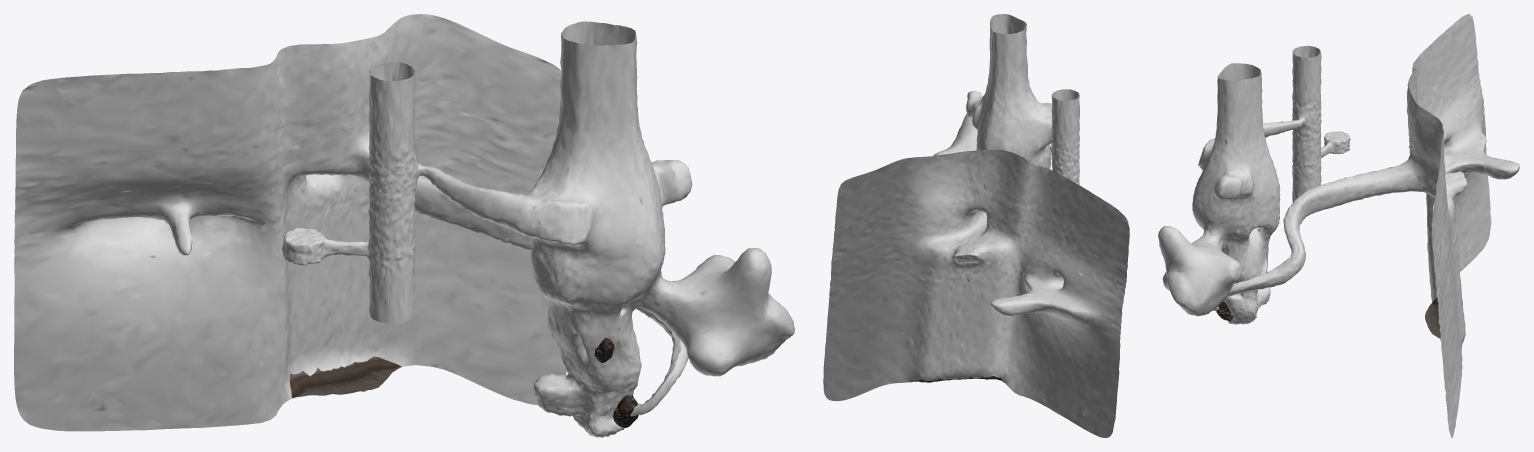
Rendered from CaveTest_11_26 3.fbx.
3 views of the same model, side by side, from view 1: azimuth 30°, elevation 25°; view 2: azimuth 150°, elevation 25°; view 3: azimuth 270°, elevation 25° (orthographic). The views are drawn at different scales.
Visible parts, largest first — view 1: CaveBase; view 2: CaveBase; view 3: CaveBase.
Boxes of the visible parts, x1,y1,x2,y2 form: CaveBase: [14, 14, 794, 437]; CaveBase: [823, 14, 1129, 437]; CaveBase: [1158, 14, 1519, 437].
Bounding box in the file's own units: 62064 × 57774 × 57644.
